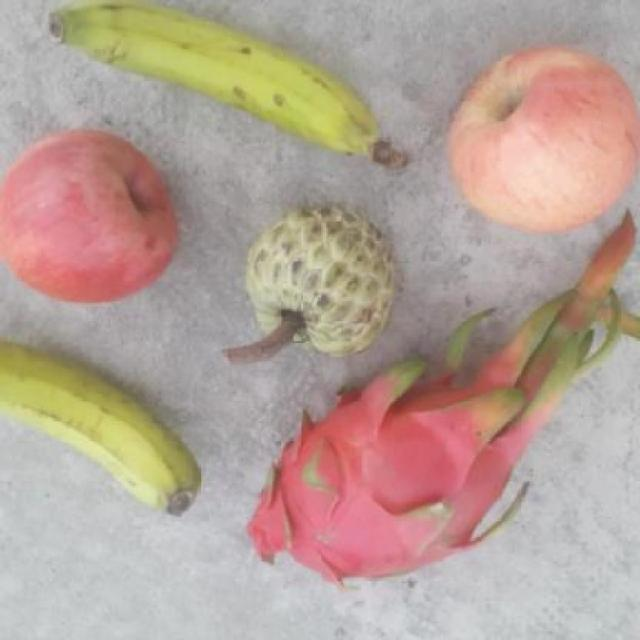apple: (442, 41, 640, 238), (1, 124, 181, 305)
banana: (42, 0, 407, 169), (1, 325, 201, 517)
dragon fruit: (234, 369, 526, 593)
sugar apple: (240, 204, 398, 362)
